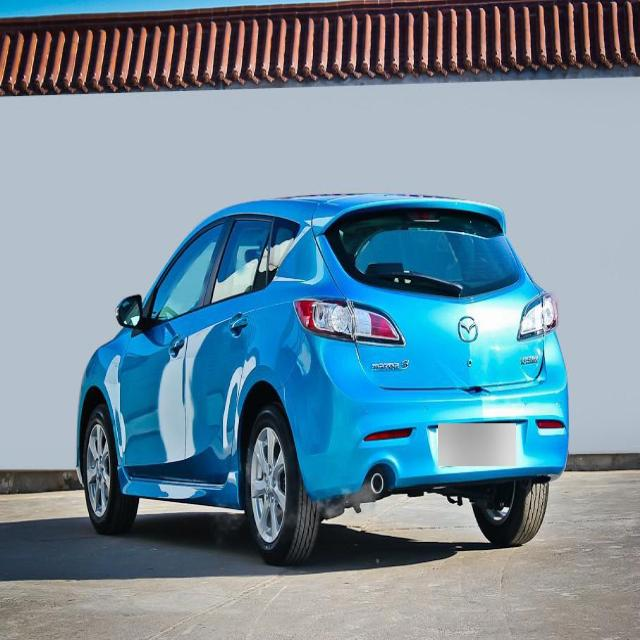back_glass: (323, 202, 522, 302)
back_left_side_light: (295, 296, 405, 346)
back_right_side_light: (518, 290, 558, 342)
door: (190, 219, 277, 479)
front_left_side_door: (118, 205, 229, 495)
front_left_side_mirror: (115, 292, 146, 332)
rear_bumper: (281, 340, 570, 501)
wheel: (250, 407, 310, 566), (467, 478, 552, 544), (82, 409, 127, 529)
